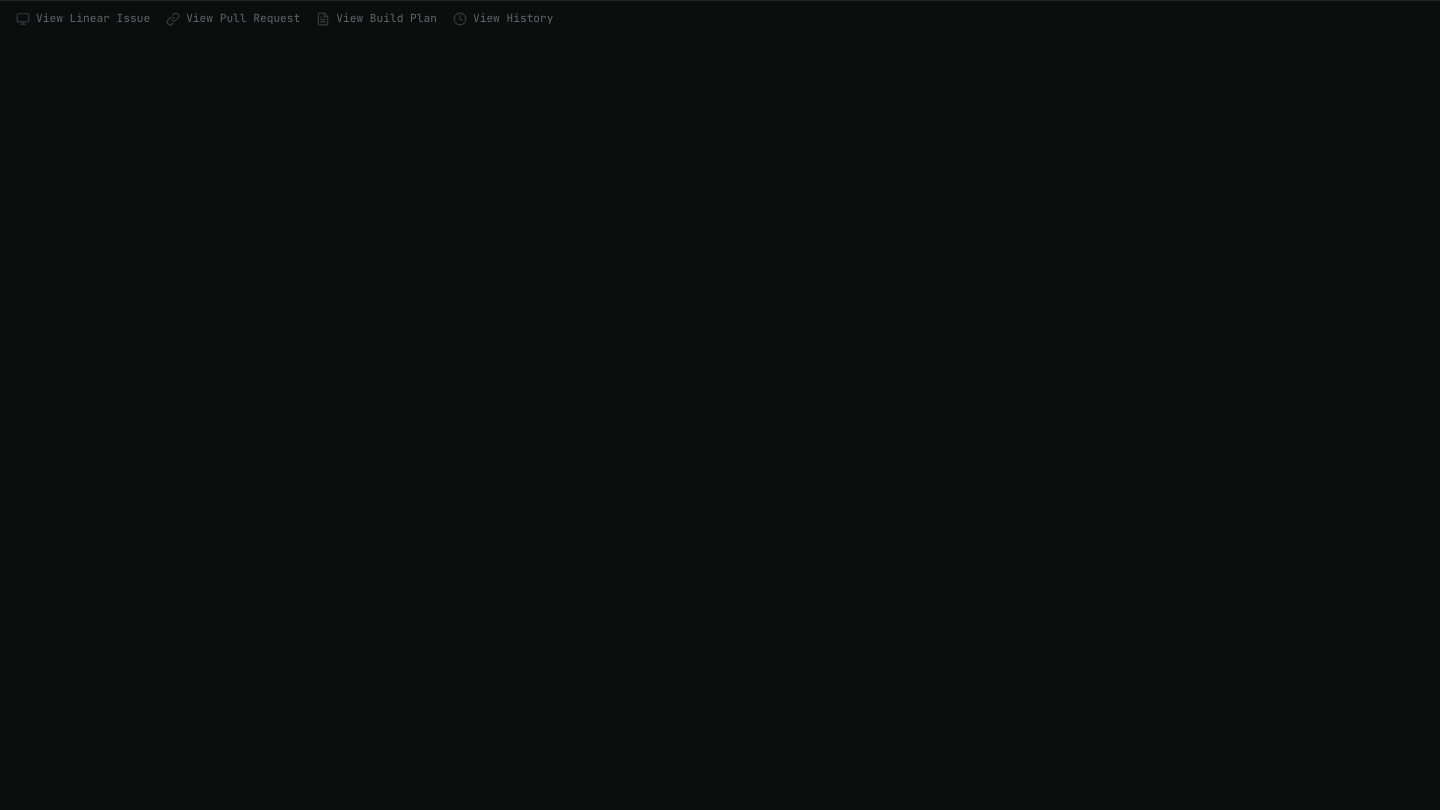
Test: SessionArtifacts › opens history modal on link click
Step 1. Click the link "View History" → x=503, y=18, box [453, 9, 554, 28]
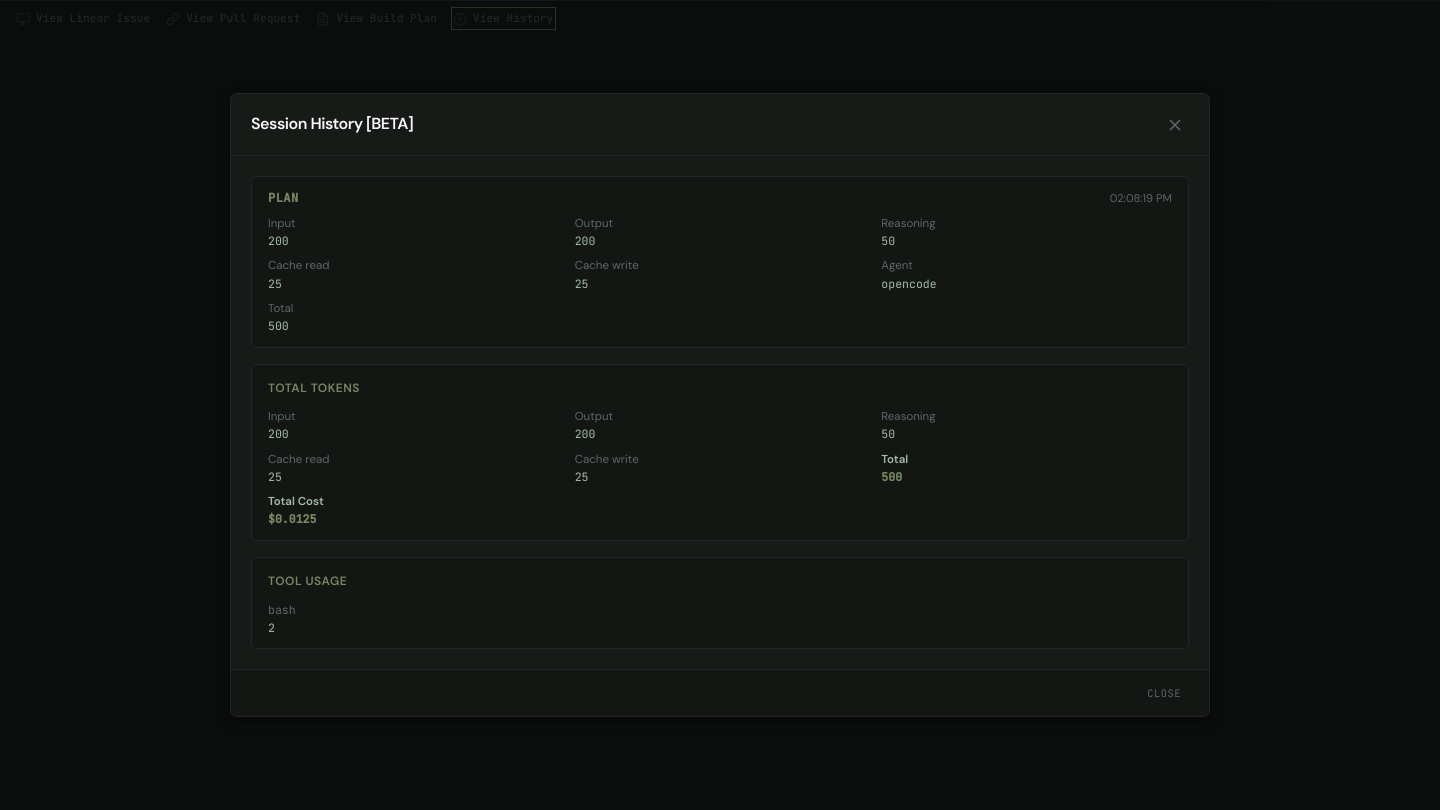
Expected: the heading "Session History [BETA]" is shown, [251, 110, 413, 139]
Expected: the text "plan" is shown, [268, 189, 299, 207]
Expected: the heading "Total Tokens" is shown, [268, 380, 360, 396]
